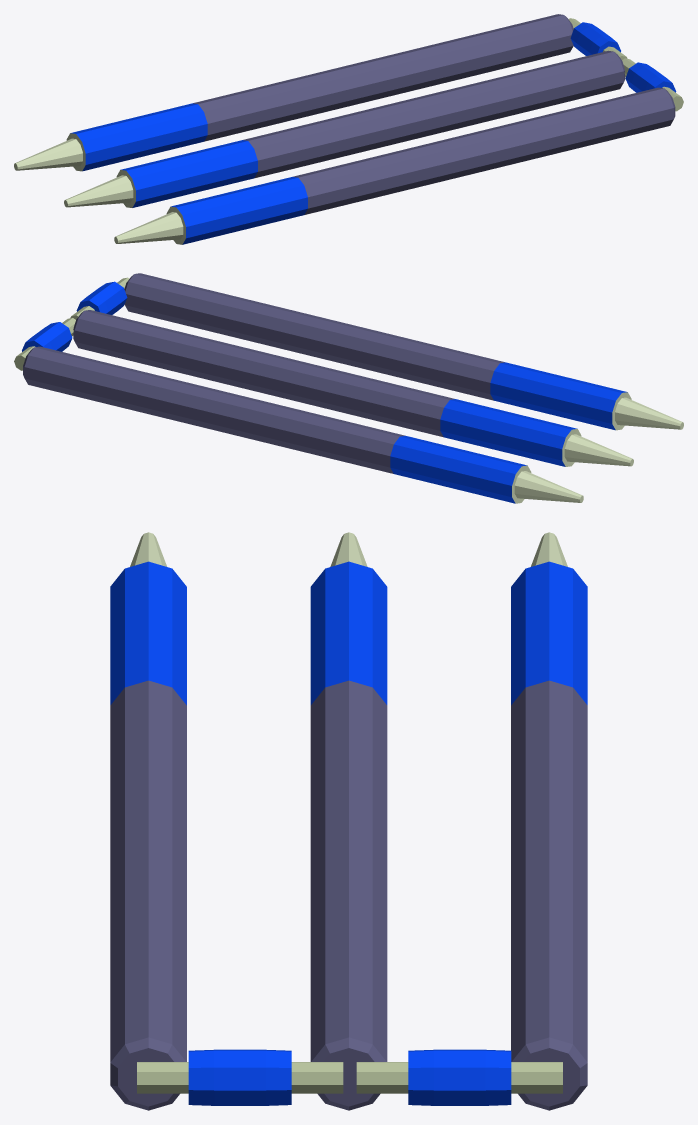
The model's file is stumps.fbx.
3 renders of one model, top to bottom at view 1: azimuth 30°, elevation 25°; view 2: azimuth 150°, elevation 25°; view 3: azimuth 270°, elevation 25°, orthographic. The views are drawn at different scales.
Parts seen in each view (by area): view 1: stump, stump1, stump2, BELLS_2, BELLS_1; view 2: stump2, stump1, stump, BELLS_1, BELLS_2; view 3: stump1, stump, stump2, BELLS_1, BELLS_2.
Boxes of the visible parts, <box> form: stump: <box>114,87,675,244</box>; stump1: <box>64,50,625,207</box>; stump2: <box>14,14,573,171</box>; BELLS_2: <box>622,58,683,111</box>; BELLS_1: <box>568,18,627,59</box>; stump2: <box>23,346,583,503</box>; stump1: <box>73,310,633,466</box>; stump: <box>124,273,683,430</box>; BELLS_1: <box>14,318,75,370</box>; BELLS_2: <box>70,277,129,319</box>; stump1: <box>310,532,387,1110</box>; stump: <box>110,532,186,1110</box>; stump2: <box>511,532,587,1110</box>; BELLS_1: <box>356,1049,562,1105</box>; BELLS_2: <box>137,1049,343,1105</box>.
Bounding box in the file's own units: 14.09 × 0.8651 × 5.11.
